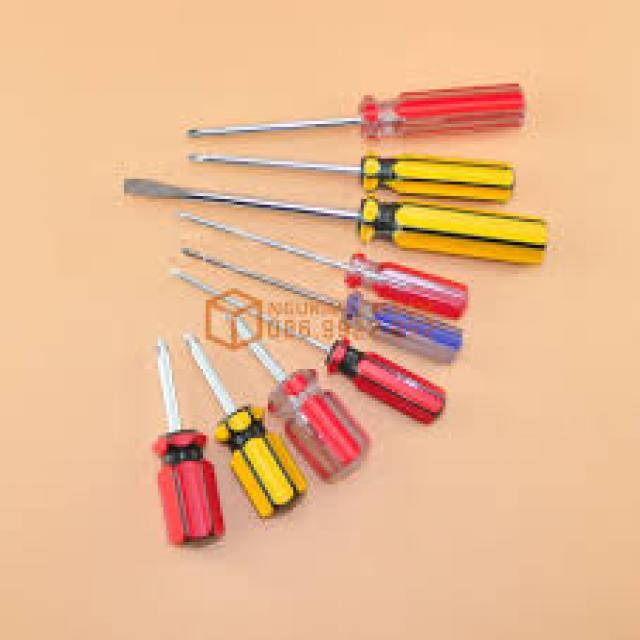screwdriver: (168, 269, 452, 432), (122, 173, 556, 268), (180, 244, 466, 362), (178, 210, 470, 320), (230, 312, 374, 488), (179, 331, 309, 522), (183, 80, 530, 148), (185, 150, 518, 208), (154, 338, 228, 554)
